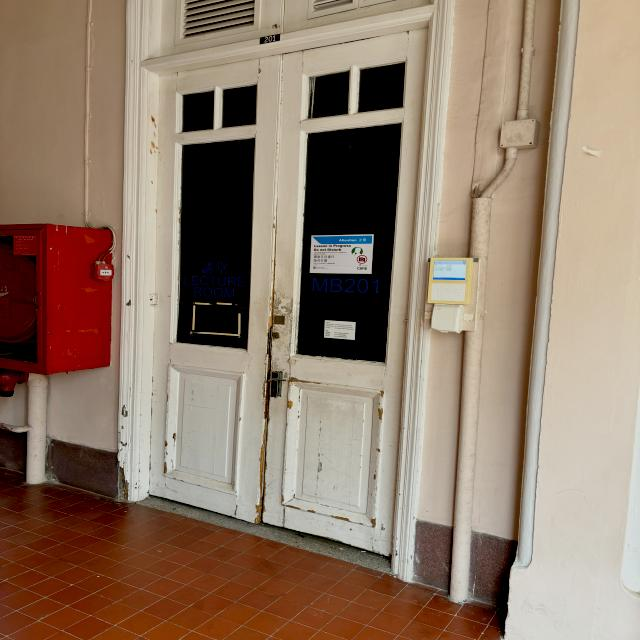MB201_fireHoseReel: (2, 219, 118, 400)
MB201_roomNum: (256, 31, 283, 49)
MB201_windowNum: (309, 276, 381, 298)
